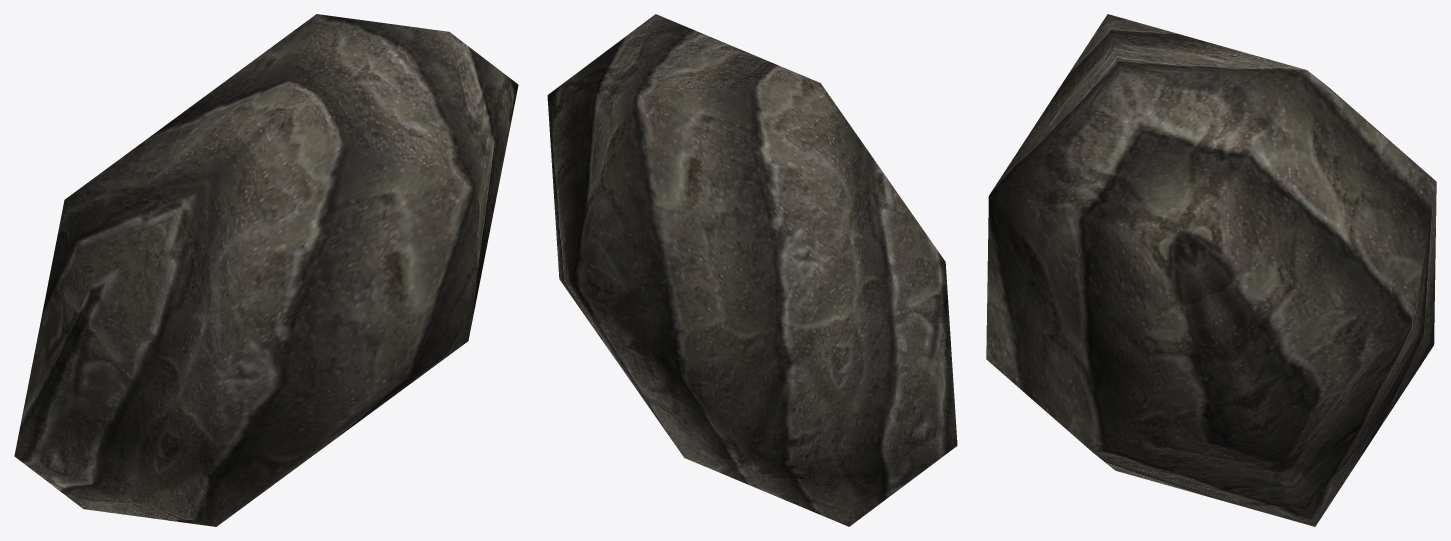
Rendered from stone_23.obj.
3 renders of one model, left to right at view 1: azimuth 30°, elevation 25°; view 2: azimuth 150°, elevation 25°; view 3: azimuth 270°, elevation 25°, orthographic. The views are drawn at different scales.
Parts seen in each view (by area): view 1: (null); view 2: (null); view 3: (null).
Part boxes in pixels (x1,y1,x2,y2): (null): (14, 14, 518, 526); (null): (547, 14, 957, 526); (null): (986, 14, 1436, 526).
Size of the model in its own units: 1.41 by 1.27 by 0.9181.
